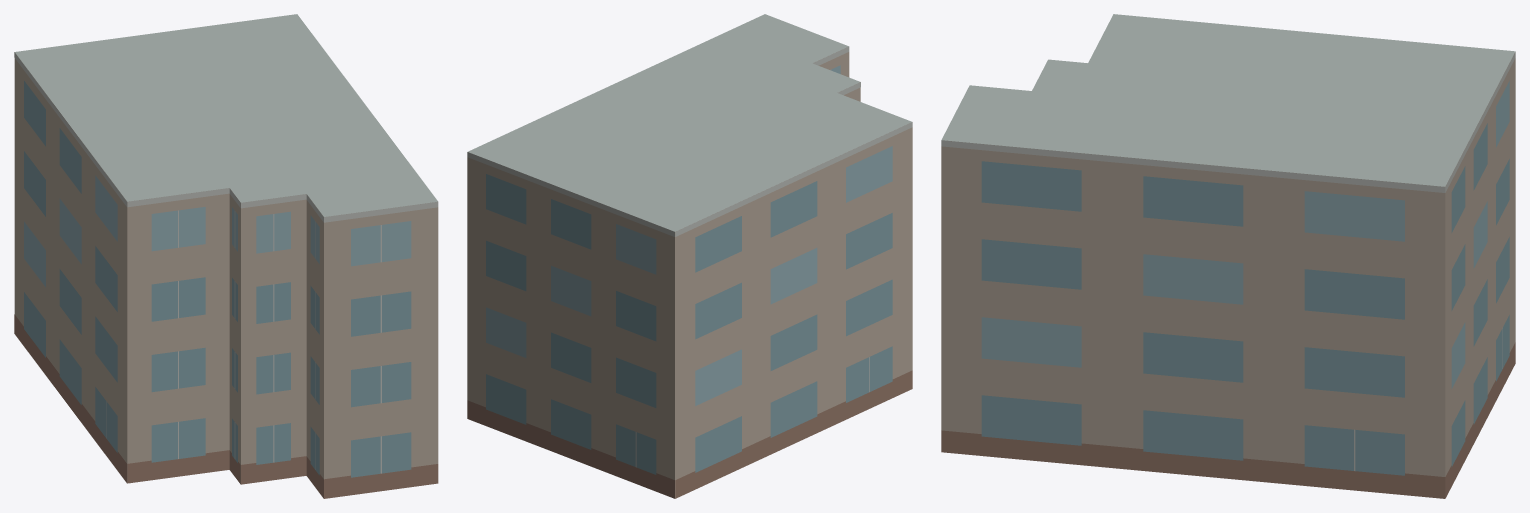
Rendered from residential-cd49c3a0-fdb7-45ff-9af4-56ef266f8133.glb.
The picture shows the model from 3 angles, left to right: view 1: azimuth 30°, elevation 25°; view 2: azimuth 150°, elevation 25°; view 3: azimuth 270°, elevation 25°; orthographic projection. The views are drawn at different scales.
Visible parts, largest first — view 1: residential-cd49c3a0-fdb7-45ff-9af4-56ef266f8133.tmp; view 2: residential-cd49c3a0-fdb7-45ff-9af4-56ef266f8133.tmp; view 3: residential-cd49c3a0-fdb7-45ff-9af4-56ef266f8133.tmp.
Part boxes in pixels (x1,y1,x2,y2): residential-cd49c3a0-fdb7-45ff-9af4-56ef266f8133.tmp: (14, 14, 438, 498); residential-cd49c3a0-fdb7-45ff-9af4-56ef266f8133.tmp: (467, 14, 912, 498); residential-cd49c3a0-fdb7-45ff-9af4-56ef266f8133.tmp: (941, 14, 1515, 498).
Size of the model in its own units: 14.5 by 12.2 by 20.36.
